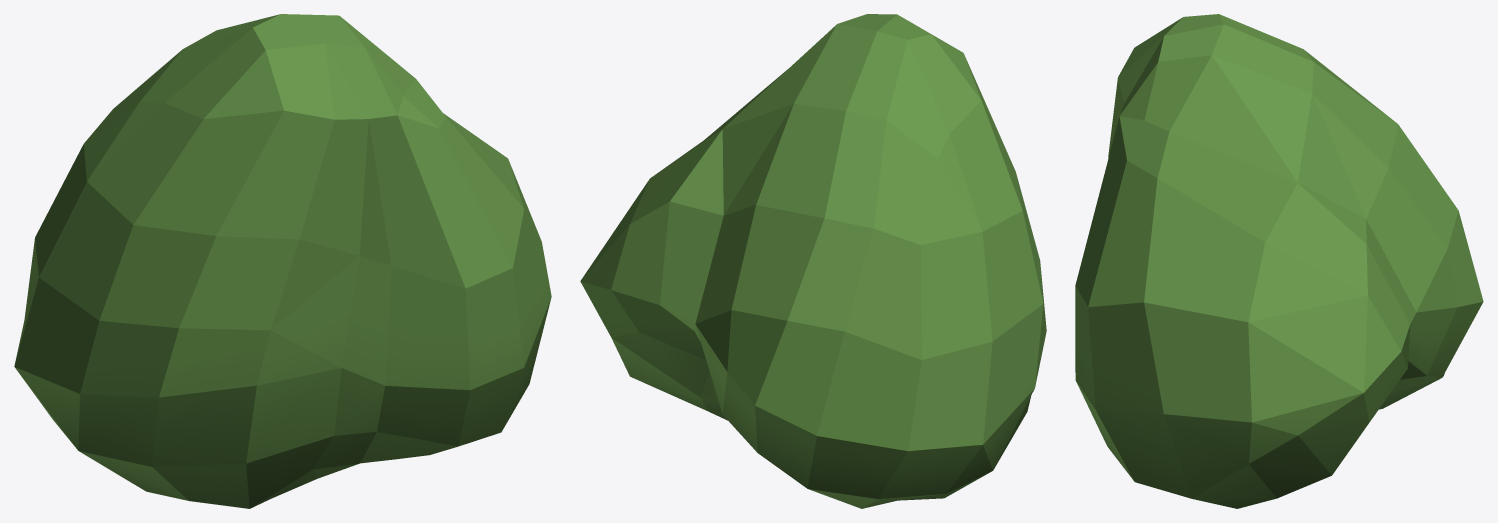
Rendered from Birch-Bush-03.fbx.
The picture shows the model from 3 angles, left to right: view 1: azimuth 30°, elevation 25°; view 2: azimuth 150°, elevation 25°; view 3: azimuth 270°, elevation 25°; orthographic projection. The views are drawn at different scales.
Parts seen in each view (by area): view 1: Birch-Bush-03; view 2: Birch-Bush-03; view 3: Birch-Bush-03.
Boxes of the visible parts, box(x1,y1,x2,y2) form: Birch-Bush-03: box(14, 14, 551, 508); Birch-Bush-03: box(580, 14, 1046, 508); Birch-Bush-03: box(1075, 14, 1483, 508).
Bounding box in the file's own units: 674 × 659 × 563.
1 material, 1 textured.
